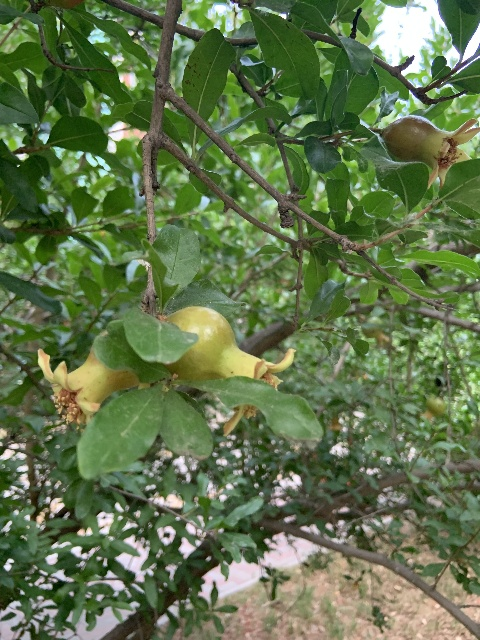early-fruit: (36, 339, 139, 426), (383, 115, 479, 191)
mid-growth: (164, 306, 295, 438), (418, 396, 446, 423)
